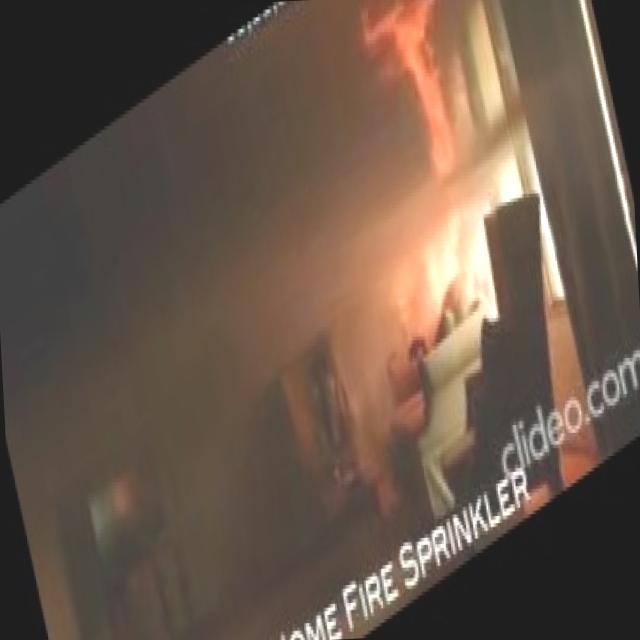fire: (341, 0, 502, 318)
